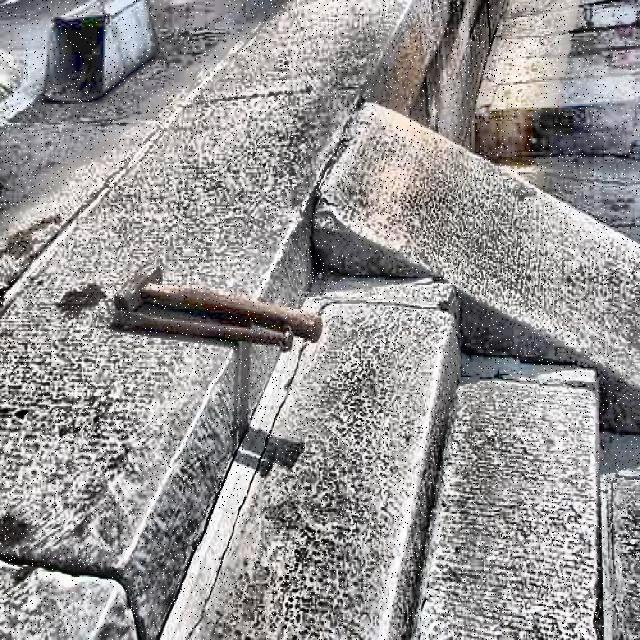hammer: (114, 264, 324, 343)
